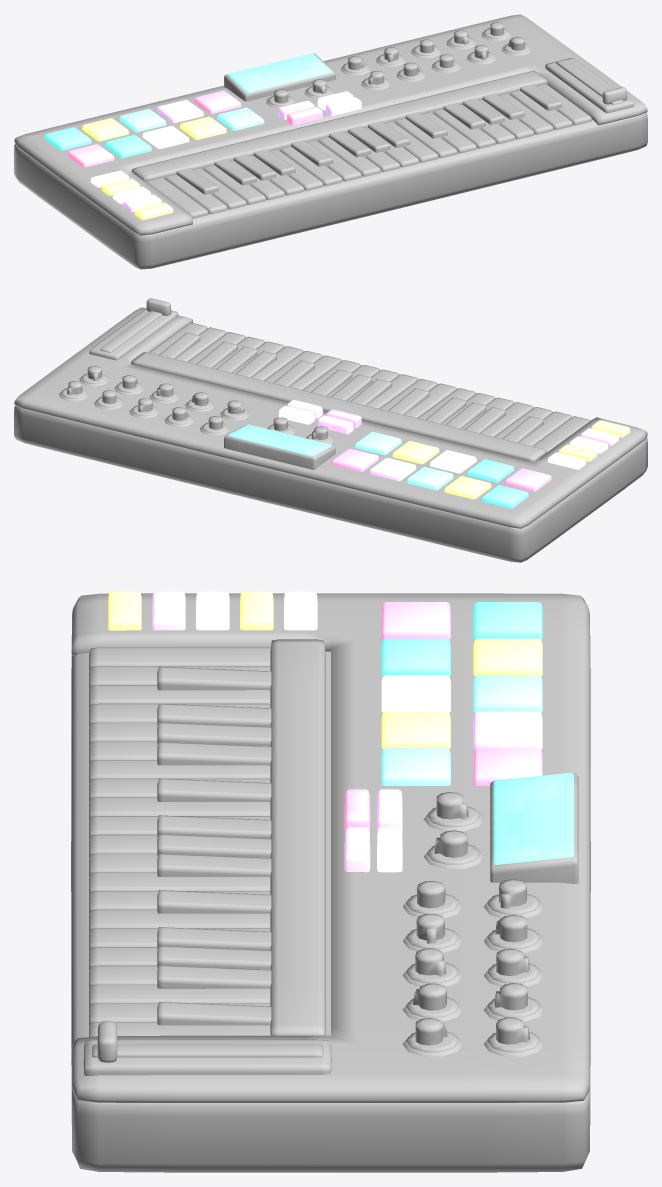
File: bj-mixer-icon.fbx
3 renders of one model, top to bottom at view 1: azimuth 30°, elevation 25°; view 2: azimuth 150°, elevation 25°; view 3: azimuth 270°, elevation 25°, orthographic. The views are drawn at different scales.
Parts seen in each view (by area): view 1: dj-synthesizer; view 2: dj-synthesizer; view 3: dj-synthesizer.
Boxes of the visible parts, x1=… form: dj-synthesizer: x1=14, y1=14, x2=647, y2=269; dj-synthesizer: x1=14, y1=298, x2=647, y2=562; dj-synthesizer: x1=71, y1=591, x2=590, y2=1172.
Size of the model in its own units: 95.29 by 10.88 by 41.89.
